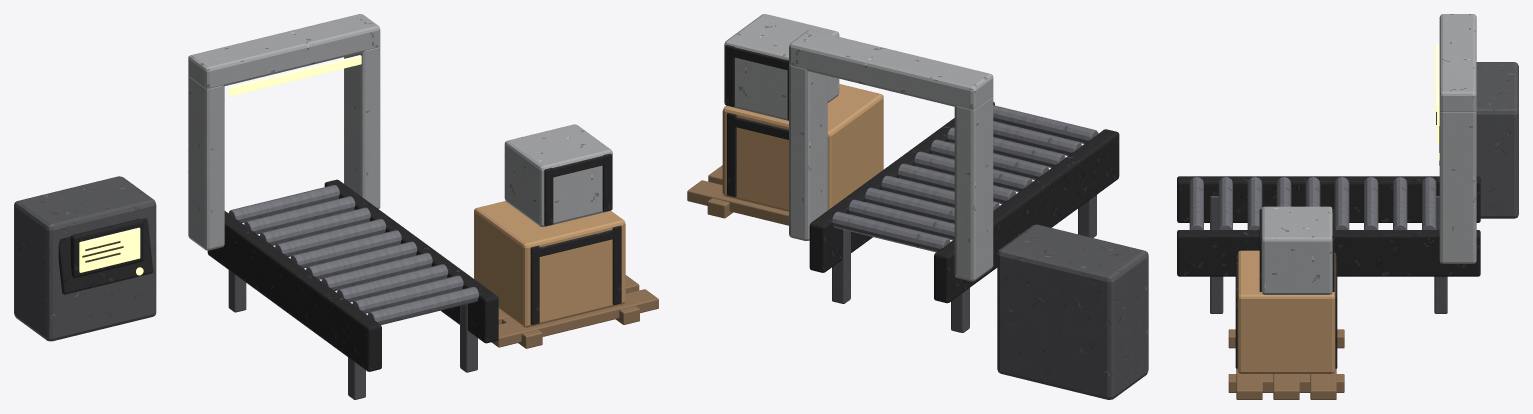
The model's file is department_cargo_dressing.glb.
The picture shows the model from 3 angles, left to right: view 1: azimuth 30°, elevation 25°; view 2: azimuth 150°, elevation 25°; view 3: azimuth 270°, elevation 25°; orthographic projection. The views are drawn at different scales.
Visible parts, largest first — view 1: DEPT_Cargo__Cargo_Console_Body, DEPT_Cargo__Crate_Large_Body, DEPT_Cargo__Conveyor_Frame_Left, DEPT_Cargo__Crate_Small_Body, DEPT_Cargo__Scanner_Top, DEPT_Cargo__Scanner_Post_-0.64, DEPT_Cargo__Scanner_Post_0.64, DEPT_Cargo__Conveyor_Frame_Right, DEPT_Cargo__Pallet_Slat_1, DEPT_Cargo__Cargo_Console_Face, DEPT_Cargo__Cargo_Console_Screen_Glow, DEPT_Cargo__Conveyor_Roller_1 (+18 smaller); view 2: DEPT_Cargo__Cargo_Console_Body, DEPT_Cargo__Crate_Large_Body, DEPT_Cargo__Conveyor_Frame_Left, DEPT_Cargo__Scanner_Top, DEPT_Cargo__Scanner_Post_-0.64, DEPT_Cargo__Scanner_Post_0.64, DEPT_Cargo__Crate_Small_Body, DEPT_Cargo__Conveyor_Frame_Right, DEPT_Cargo__Conveyor_Roller_10, DEPT_Cargo__Conveyor_Roller_9, DEPT_Cargo__Conveyor_Roller_1, DEPT_Cargo__Pallet_Slat_3 (+14 smaller); view 3: DEPT_Cargo__Crate_Large_Body, DEPT_Cargo__Conveyor_Frame_Right, DEPT_Cargo__Cargo_Console_Body, DEPT_Cargo__Crate_Small_Body, DEPT_Cargo__Conveyor_Frame_Left, DEPT_Cargo__Scanner_Post_0.64, DEPT_Cargo__Scanner_Top, DEPT_Cargo__Conveyor_Roller_6, DEPT_Cargo__Pallet_Runner_Right, DEPT_Cargo__Conveyor_Roller_2, DEPT_Cargo__Conveyor_Roller_7, DEPT_Cargo__Conveyor_Roller_8 (+13 smaller).
Boxes of the visible parts, <box> form: DEPT_Cargo__Cargo_Console_Body: <box>14,176,156,341</box>; DEPT_Cargo__Crate_Large_Body: <box>474,201,625,327</box>; DEPT_Cargo__Conveyor_Frame_Left: <box>207,211,381,371</box>; DEPT_Cargo__Crate_Small_Body: <box>504,124,612,226</box>; DEPT_Cargo__Scanner_Top: <box>188,14,380,88</box>; DEPT_Cargo__Scanner_Post_-0.64: <box>188,76,224,250</box>; DEPT_Cargo__Scanner_Post_0.64: <box>344,47,380,208</box>; DEPT_Cargo__Conveyor_Frame_Right: <box>324,179,498,343</box>; DEPT_Cargo__Pallet_Slat_1: <box>491,289,658,347</box>; DEPT_Cargo__Cargo_Console_Face: <box>58,218,153,294</box>; DEPT_Cargo__Cargo_Console_Screen_Glow: <box>79,227,140,272</box>; DEPT_Cargo__Conveyor_Roller_1: <box>368,286,478,324</box>; DEPT_Cargo__Cargo_Console_Body: <box>997,224,1148,399</box>; DEPT_Cargo__Crate_Large_Body: <box>722,84,883,211</box>; DEPT_Cargo__Conveyor_Frame_Left: <box>934,129,1119,303</box>; DEPT_Cargo__Scanner_Top: <box>789,30,993,109</box>; DEPT_Cargo__Scanner_Post_-0.64: <box>954,95,993,281</box>; DEPT_Cargo__Scanner_Post_0.64: <box>789,65,827,240</box>; DEPT_Cargo__Crate_Small_Body: <box>724,14,839,120</box>; DEPT_Cargo__Conveyor_Frame_Right: <box>809,102,994,272</box>; DEPT_Cargo__Conveyor_Roller_10: <box>832,211,950,252</box>; DEPT_Cargo__Conveyor_Roller_9: <box>848,199,954,240</box>; DEPT_Cargo__Conveyor_Roller_1: <box>993,105,1098,143</box>; DEPT_Cargo__Pallet_Slat_3: <box>687,180,788,225</box>; DEPT_Cargo__Crate_Large_Body: <box>1237,250,1335,373</box>; DEPT_Cargo__Conveyor_Frame_Right: <box>1177,230,1480,276</box>; DEPT_Cargo__Cargo_Console_Body: <box>1476,62,1518,218</box>; DEPT_Cargo__Crate_Small_Body: <box>1261,206,1332,294</box>; DEPT_Cargo__Conveyor_Frame_Left: <box>1177,176,1480,222</box>; DEPT_Cargo__Scanner_Post_0.64: <box>1439,110,1476,263</box>; DEPT_Cargo__Scanner_Top: <box>1439,14,1476,111</box>; DEPT_Cargo__Conveyor_Roller_6: <box>1334,177,1349,229</box>; DEPT_Cargo__Pallet_Runner_Right: <box>1228,374,1344,392</box>; DEPT_Cargo__Conveyor_Roller_2: <box>1218,177,1232,229</box>; DEPT_Cargo__Conveyor_Roller_7: <box>1364,177,1378,229</box>; DEPT_Cargo__Conveyor_Roller_8: <box>1393,177,1407,229</box>.
Bounding box in the file's own units: 4.08 × 1.95 × 2.59.
8 materials, 4 textured.
